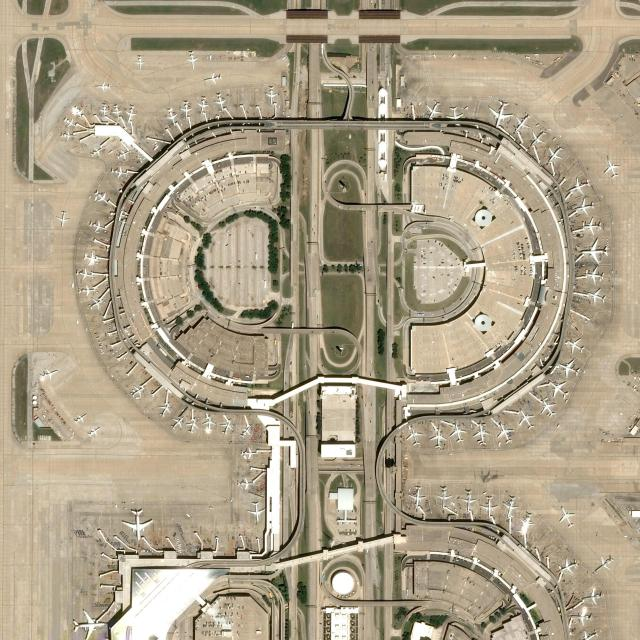1: (580, 628, 600, 640)
aircraft: (120, 508, 154, 540), (70, 609, 105, 637), (578, 237, 610, 263), (488, 97, 514, 125), (565, 176, 593, 196), (581, 265, 609, 285), (548, 379, 572, 401), (562, 336, 588, 355), (406, 482, 424, 509), (512, 113, 534, 135), (448, 422, 468, 446), (558, 360, 582, 380), (432, 484, 452, 508), (472, 423, 491, 448), (578, 217, 604, 235), (558, 505, 576, 531), (423, 97, 443, 120), (572, 198, 597, 216), (581, 586, 606, 604), (479, 493, 497, 518), (248, 499, 265, 525), (519, 512, 537, 536), (458, 488, 474, 514), (544, 144, 564, 164), (538, 396, 556, 418), (517, 408, 534, 430), (584, 288, 607, 304), (236, 474, 258, 490), (595, 554, 614, 572), (406, 428, 423, 448), (429, 427, 446, 447), (498, 422, 514, 443), (604, 158, 619, 180), (503, 496, 518, 518), (528, 130, 546, 148), (220, 415, 234, 437), (445, 104, 464, 120), (238, 422, 254, 440), (202, 71, 222, 85), (39, 366, 60, 379), (157, 400, 172, 418), (186, 417, 200, 436), (240, 446, 262, 458), (55, 208, 68, 228), (129, 383, 145, 399), (170, 414, 186, 430), (264, 84, 278, 102), (88, 218, 106, 232), (202, 414, 216, 432), (77, 284, 96, 297), (178, 99, 192, 116), (164, 106, 178, 123), (195, 96, 209, 112), (88, 295, 102, 311), (75, 267, 92, 280), (87, 424, 102, 438), (71, 412, 87, 425), (88, 146, 105, 158), (56, 130, 76, 140), (214, 92, 226, 108), (82, 252, 98, 264), (126, 105, 136, 124), (133, 56, 145, 71), (62, 117, 77, 129), (95, 81, 111, 92), (188, 51, 198, 67), (114, 149, 130, 159), (98, 104, 109, 118), (110, 166, 124, 177), (112, 105, 122, 120)
